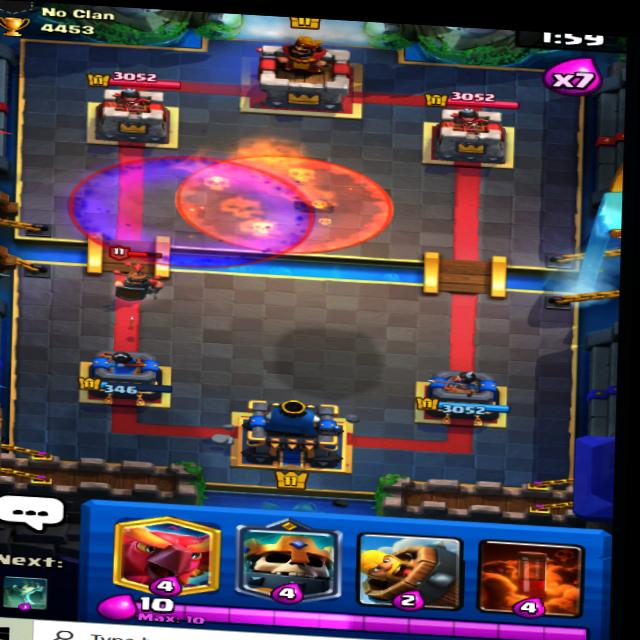graveyard: (72, 146, 317, 271)
poison: (177, 143, 385, 257)
royal-delivery: (291, 187, 342, 222)
royal-recruits: (108, 249, 167, 307)
